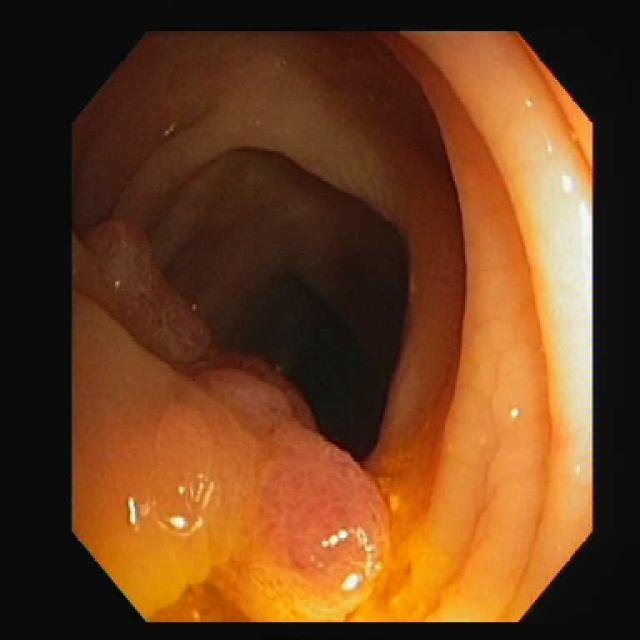tumor: (74, 216, 389, 619)
